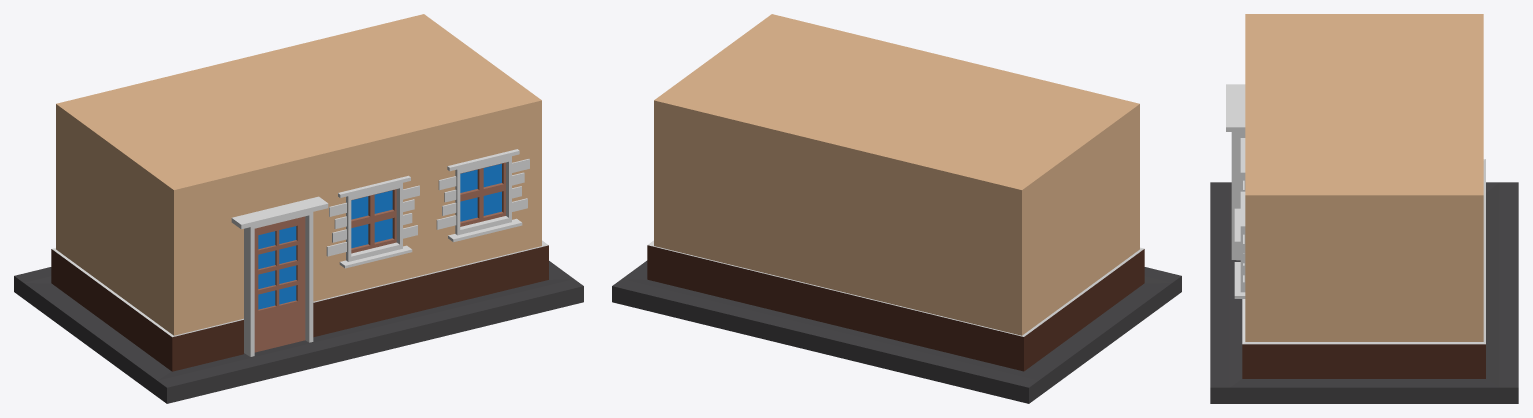
File: tower_base.fbx
The picture shows the model from 3 angles, left to right: view 1: azimuth 30°, elevation 25°; view 2: azimuth 150°, elevation 25°; view 3: azimuth 270°, elevation 25°; orthographic projection.
Parts seen in each view (by area): view 1: Cube; view 2: Cube; view 3: Cube.
Boxes of the visible parts, x1,y1,x2,y2 form: Cube: (14,14,583,403); Cube: (612,14,1181,403); Cube: (1210,14,1518,403).
Size of the model in its own units: 671 by 300 by 426.
